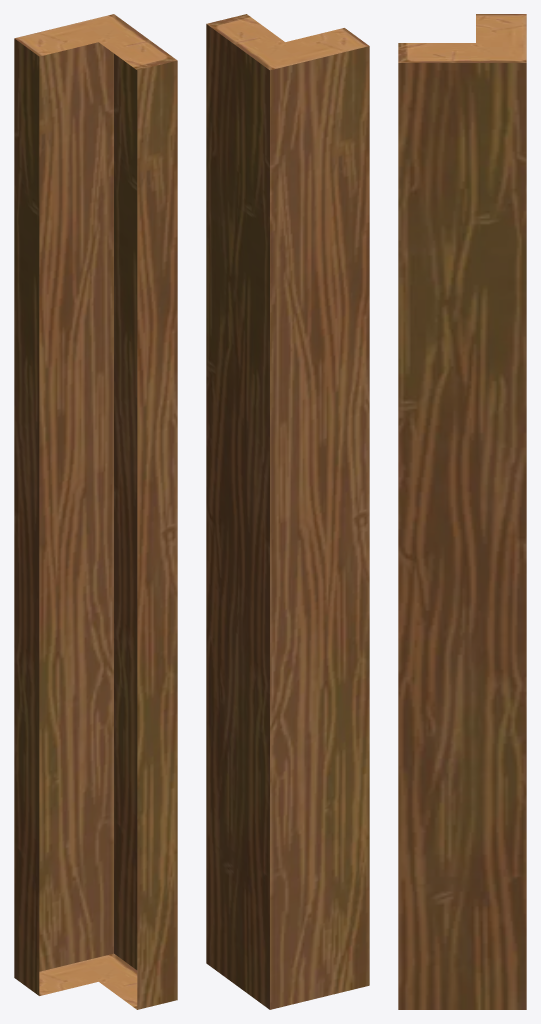
File: Corner_Interior_Big.gltf
3 views of the same model, side by side, from view 1: azimuth 30°, elevation 25°; view 2: azimuth 210°, elevation 25°; view 3: azimuth 270°, elevation 25° (orthographic).
Parts seen in each view (by area): view 1: Corner_Interior_Big; view 2: Corner_Interior_Big; view 3: Corner_Interior_Big.
Boxes of the visible parts, box(x1,y1,x2,y2) form: Corner_Interior_Big: box(14, 14, 177, 1009); Corner_Interior_Big: box(206, 14, 369, 1009); Corner_Interior_Big: box(398, 14, 526, 1009).
Size of the model in its own units: 0.3331 by 3 by 0.3681.
1 material, 1 textured.
